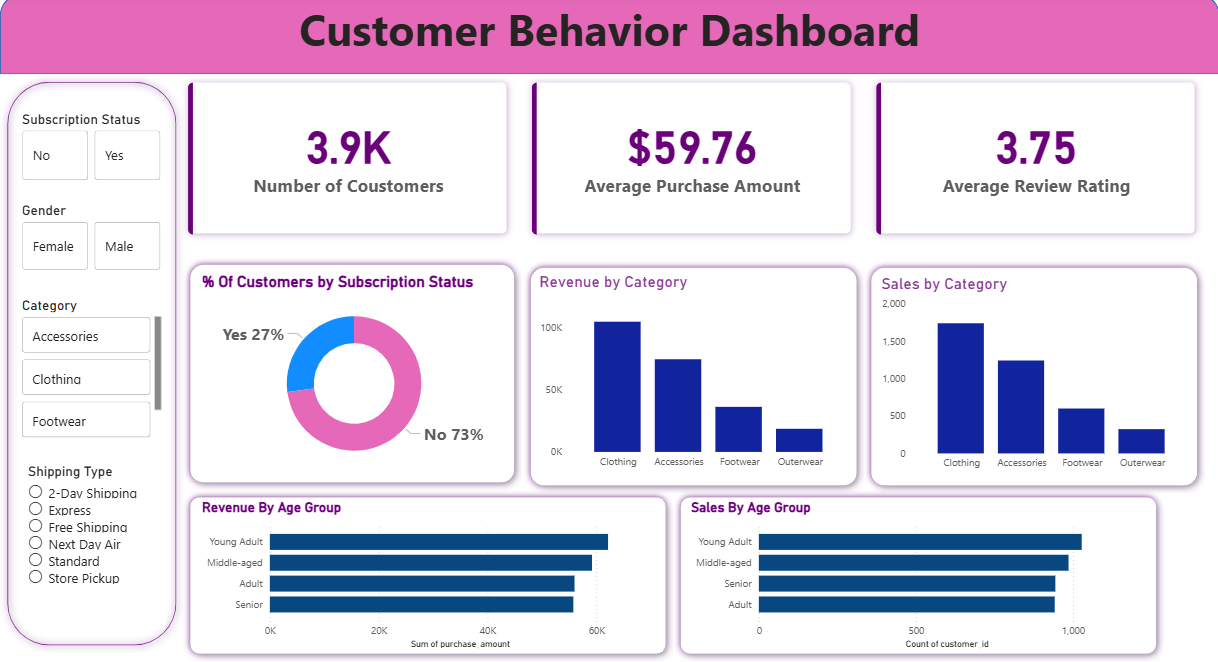

The dashboard page shown, as its layout file describes it:
{"tool":"powerbi","page":{"name":"Page 1","canvas":[1500,820],"ordinal":0},"visuals":[{"type":"shape","box":[225.9,609,602.4,210.4],"z":0},{"type":"cardVisual","fields":{"Data":["public customer_data.Number of Coustomers","public customer_data.Average Purchase Amount","public customer_data.Average Review Rating"]},"box":[203.7,79.7,1295.5,243.6],"z":1000},{"type":"shape","box":[0,0,1499.3,97.4],"z":2000},{"type":"textbox","box":[0,0,1499.3,97.4],"z":3000},{"type":"shape","box":[225.9,323.3,416.3,285.7],"z":4000},{"type":"donutChart","title":"% Of Customers by Subscription Status","fields":{"Category":["public customer_data.subscription_status"],"Y":["CountNonNull(public customer_data.customer_id)"]},"box":[243.6,341,383.1,250.2],"z":5000},{"type":"shape","box":[1063,325.5,418.6,285.7],"z":6000},{"type":"shape","box":[643.3,325.5,418.6,285.7],"z":7000},{"type":"clusteredColumnChart","title":"Revenue by Category","fields":{"Y":["Sum(public customer_data.purchase_amount)"],"Category":["public customer_data.category"]},"box":[657.7,341,389.8,250.2],"z":8000},{"type":"clusteredColumnChart","title":"Sales by Category","fields":{"Y":["CountNonNull(public customer_data.customer_id)"],"Category":["public customer_data.category"]},"box":[1078.5,343.3,389.8,250.2],"z":9000},{"type":"shape","box":[0,97.4,225.9,710.9],"z":10000},{"type":"advancedSlicerVisual","fields":{"Values":["public customer_data.subscription_status"]},"box":[22.1,141.7,181.6,90.8],"z":11000},{"type":"advancedSlicerVisual","fields":{"Values":["public customer_data.gender"]},"box":[22.1,254.7,181.6,88.6],"z":12000},{"type":"advancedSlicerVisual","fields":{"Values":["public customer_data.category"]},"box":[22.1,369.8,181.6,179.4],"z":13000},{"type":"listSlicer","fields":{"Values":["public customer_data.shipping_type"]},"box":[28.8,575.8,175,203.7],"z":14000},{"type":"clusteredBarChart","title":"Revenue By Age Group","fields":{"Y":["Sum(public customer_data.purchase_amount)"],"Category":["public customer_data.age_group"]},"box":[243.6,620.1,571.4,188.2],"z":15000},{"type":"shape","box":[828.3,609,602.4,210.4],"z":16000},{"type":"clusteredBarChart","title":"Sales By Age Group","fields":{"Y":["CountNonNull(public customer_data.customer_id)"],"Category":["public customer_data.age_group"]},"box":[843.8,620.1,571.4,188.2],"z":17000}]}

Visuals, with their boxes in screenshot pixels (x1, y1, x2, y2), scaled from the page's 1500x820 canvas onto the 1218x662 screenshot:
shape: (183,492,673,661)
cardVisual - public customer_data.Number of Coustomers x public customer_data.Average Purchase Amount: (165,64,1217,261)
shape: (0,0,1217,79)
textbox: (0,0,1217,79)
shape: (183,261,521,492)
"% Of Customers by Subscription Status" donutChart: (198,275,509,477)
shape: (863,263,1203,493)
shape: (522,263,862,493)
"Revenue by Category" clusteredColumnChart: (534,275,851,477)
"Sales by Category" clusteredColumnChart: (876,277,1192,479)
shape: (0,79,183,653)
advancedSlicerVisual - public customer_data.subscription_status: (18,114,165,188)
advancedSlicerVisual - public customer_data.gender: (18,206,165,277)
advancedSlicerVisual - public customer_data.category: (18,299,165,443)
listSlicer - public customer_data.shipping_type: (23,465,165,629)
"Revenue By Age Group" clusteredBarChart: (198,501,662,653)
shape: (673,492,1162,661)
"Sales By Age Group" clusteredBarChart: (685,501,1149,653)
